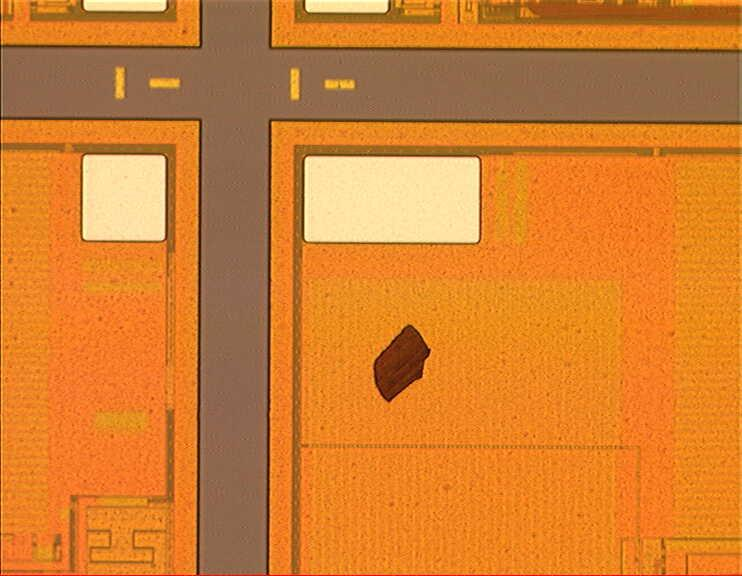PIQ PARTICLE: (375, 325, 433, 402)
